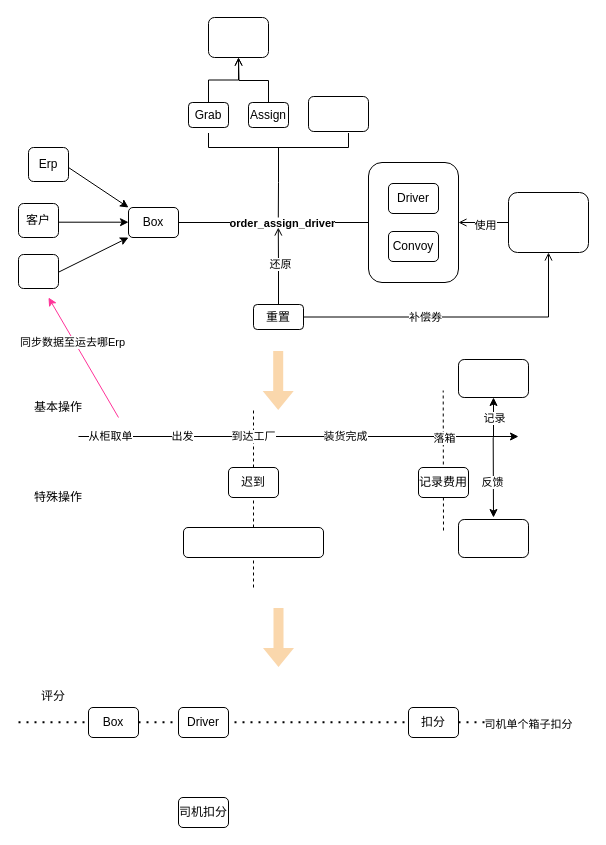
Some shapes in this 606 by 845 pixel diagram are drawn without their labels. Each missing label, with the box of its shape:
place地址: (458, 518, 528, 558)
关联(已有司机): (308, 96, 368, 132)
卡券Coupon 司机卡券 车队卡券: (508, 192, 588, 252)
微信通知 push: (208, 16, 268, 58)
操作记录: (458, 358, 528, 398)
根据 门点 地址准确性判断: (182, 526, 324, 558)
运去哪: (18, 254, 58, 288)
